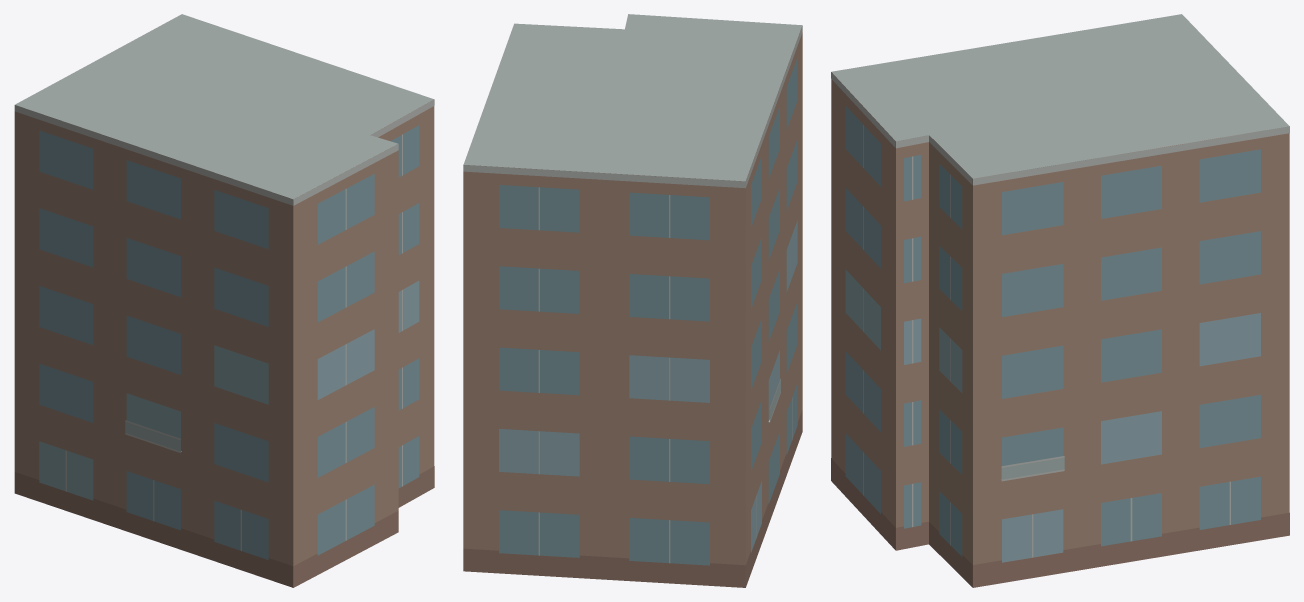
File: survey-upis-32884278.glb
The picture shows the model from 3 angles, left to right: view 1: azimuth 30°, elevation 25°; view 2: azimuth 150°, elevation 25°; view 3: azimuth 270°, elevation 25°; orthographic projection. The views are drawn at different scales.
Visible parts, largest first — view 1: survey-upis-32884278.tmp; view 2: survey-upis-32884278.tmp; view 3: survey-upis-32884278.tmp.
Boxes of the visible parts, left/top/right/bottom form: survey-upis-32884278.tmp: left=14, top=14, right=434, bottom=587; survey-upis-32884278.tmp: left=463, top=14, right=802, bottom=587; survey-upis-32884278.tmp: left=831, top=14, right=1289, bottom=587.
Size of the model in its own units: 12.53 by 14.5 by 14.74.
